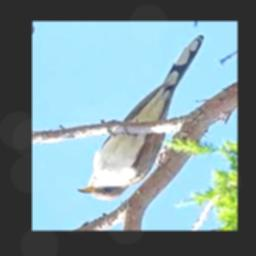Cuckoo: (79, 35, 205, 200)
